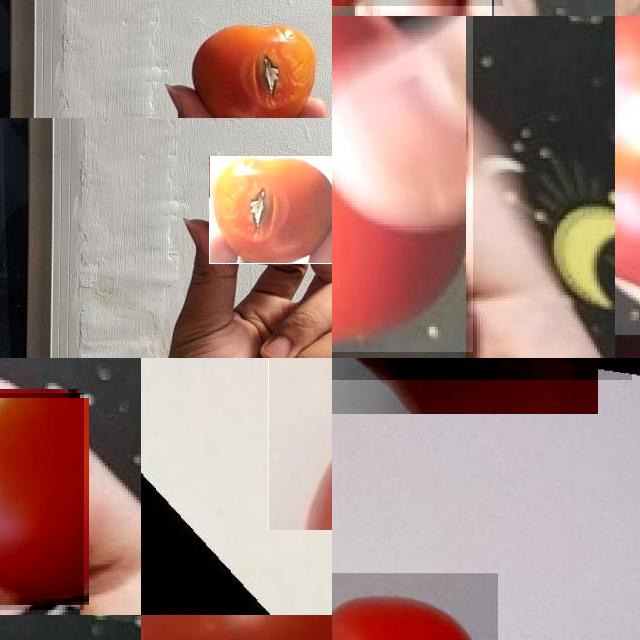0: (332, 573, 497, 640)
Fresh Tomato: (332, 16, 473, 352), (0, 393, 84, 610)
Rotten Tomato: (209, 156, 332, 264)
